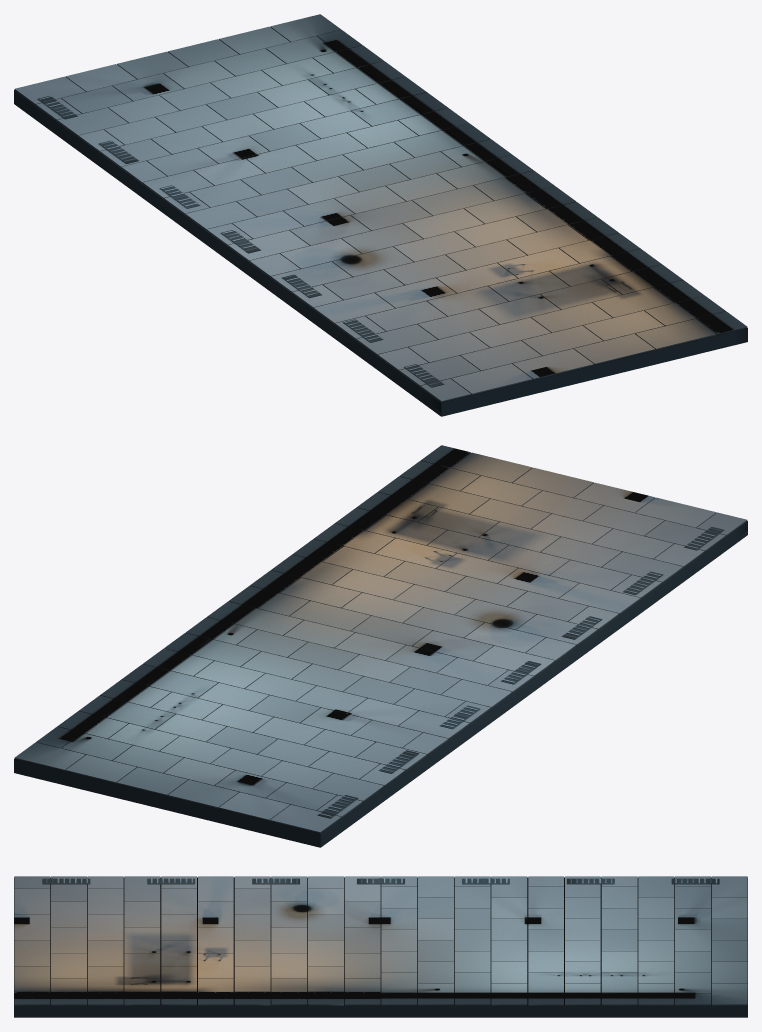
The model's file is walkway.glb.
The picture shows the model from 3 angles, top to bottom: view 1: azimuth 30°, elevation 25°; view 2: azimuth 150°, elevation 25°; view 3: azimuth 270°, elevation 25°; orthographic projection. The views are drawn at different scales.
Visible parts, largest first — view 1: walkway-baked; view 2: walkway-baked; view 3: walkway-baked.
Boxes of the visible parts, x1=… form: walkway-baked: x1=14, y1=14, x2=747, y2=416; walkway-baked: x1=14, y1=445, x2=747, y2=847; walkway-baked: x1=14, y1=876, x2=747, y2=1017.
Size of the model in its own units: 5.8 by 0.294 by 14.
Materials: 1 (1 with a texture image).
